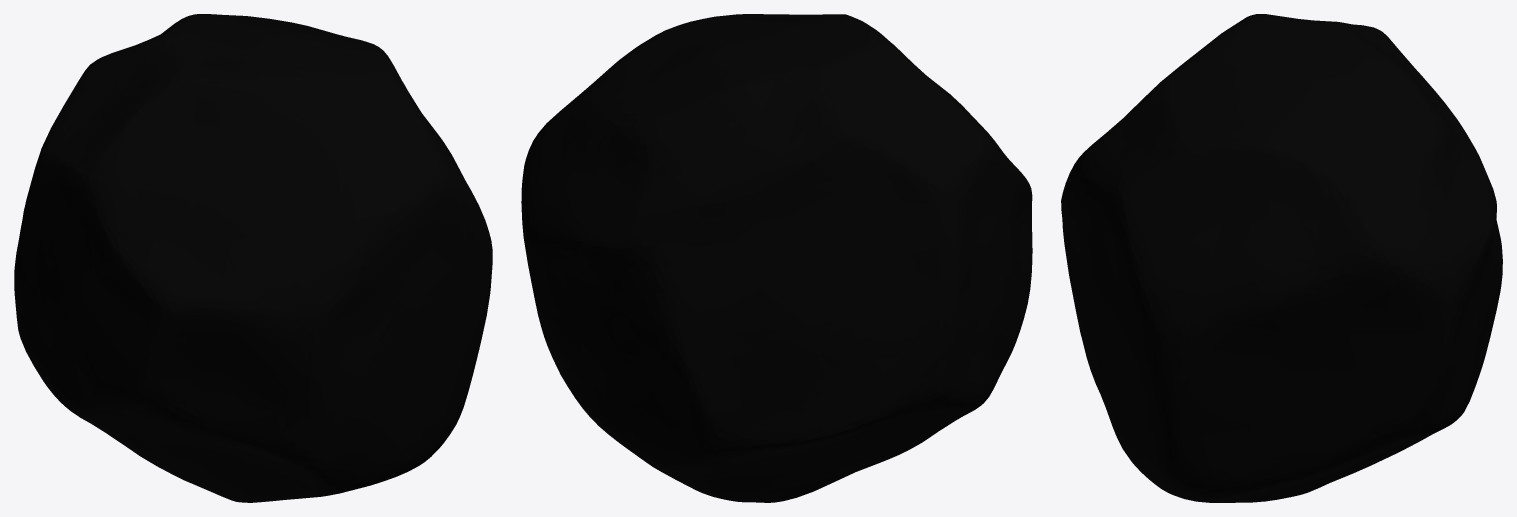
File: Meteor.fbx
3 renders of one model, left to right at view 1: azimuth 30°, elevation 25°; view 2: azimuth 150°, elevation 25°; view 3: azimuth 270°, elevation 25°, orthographic. The views are drawn at different scales.
Parts seen in each view (by area): view 1: Meteor.l; view 2: Meteor.l; view 3: Meteor.l.
Boxes of the visible parts, box(x1,y1,x2,y2) form: Meteor.l: box(14, 14, 492, 502); Meteor.l: box(521, 14, 1032, 502); Meteor.l: box(1061, 14, 1502, 502).
Size of the model in its own units: 1.69 by 1.84 by 1.7.
